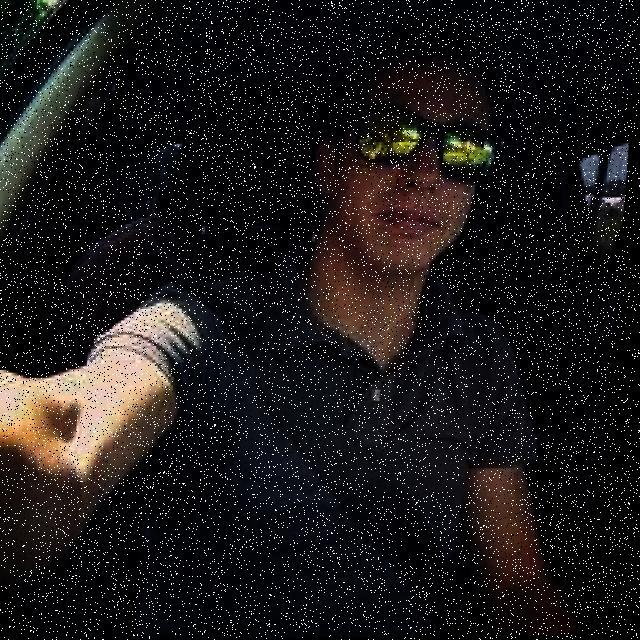seatbelt: (108, 238, 538, 639)
